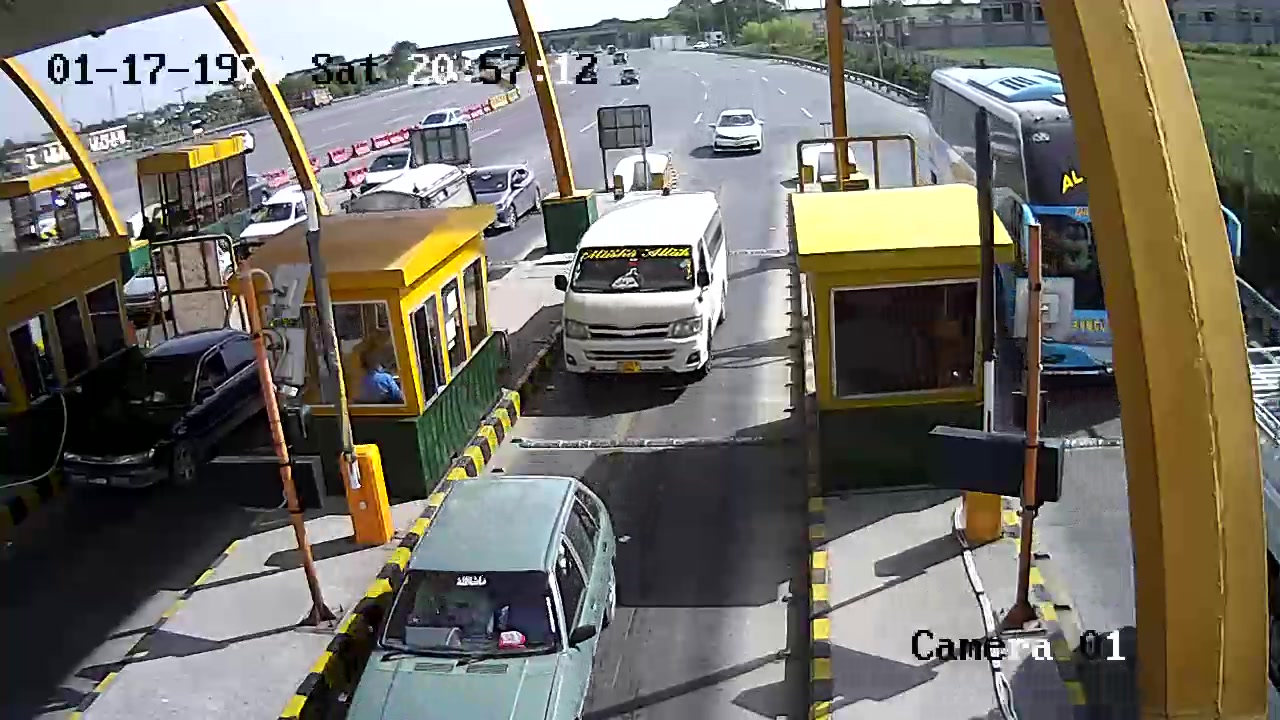F2: (547, 189, 753, 397)
